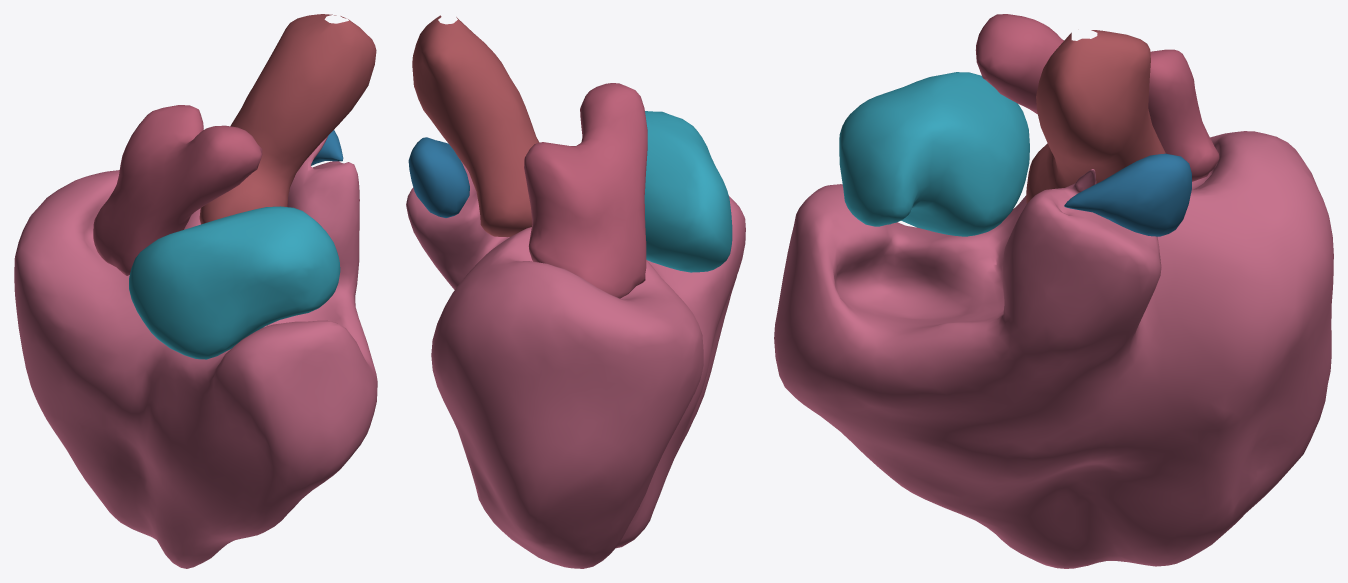
The model's file is frame_31.glb.
3 renders of one model, left to right at view 1: azimuth 30°, elevation 25°; view 2: azimuth 150°, elevation 25°; view 3: azimuth 270°, elevation 25°, orthographic. The views are drawn at different scales.
Parts seen in each view (by area): view 1: Renderer Node; view 2: Renderer Node; view 3: Renderer Node.
Boxes of the visible parts, x1,y1,x2,y2 form: Renderer Node: [14, 14, 377, 568]; Renderer Node: [406, 15, 745, 568]; Renderer Node: [774, 14, 1333, 568].
Bounding box in the file's own units: 103 × 161 × 129.
